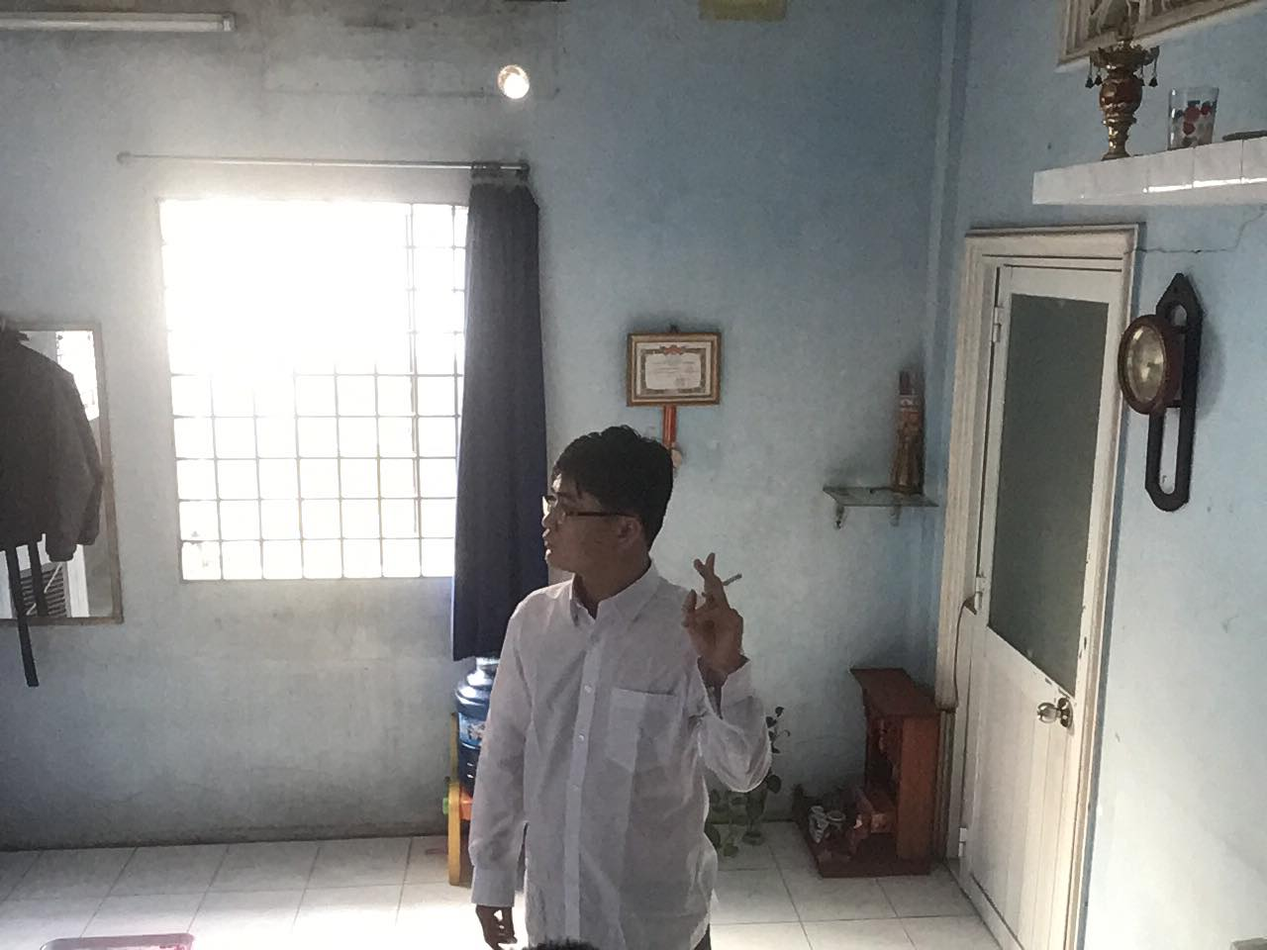cigarette: (716, 568, 747, 591)
person: (468, 420, 787, 950)
